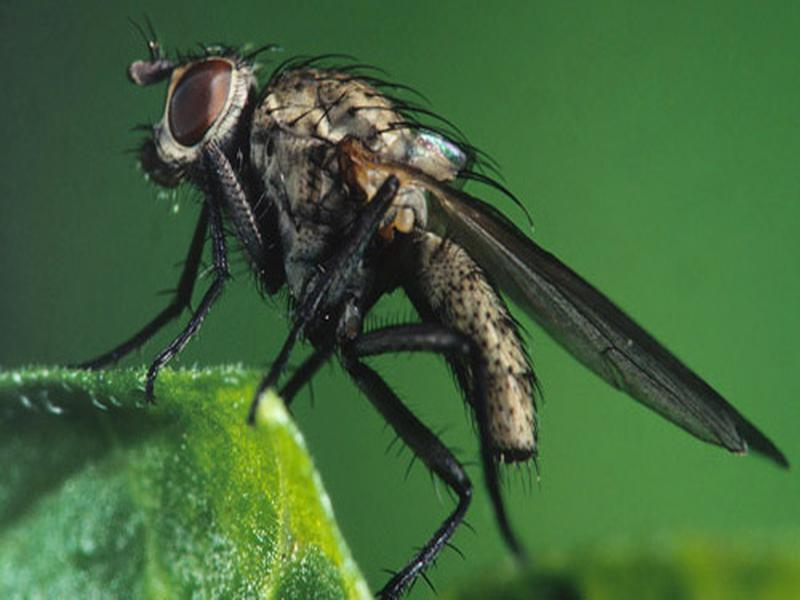Whorl_maggot: (85, 39, 775, 490)
